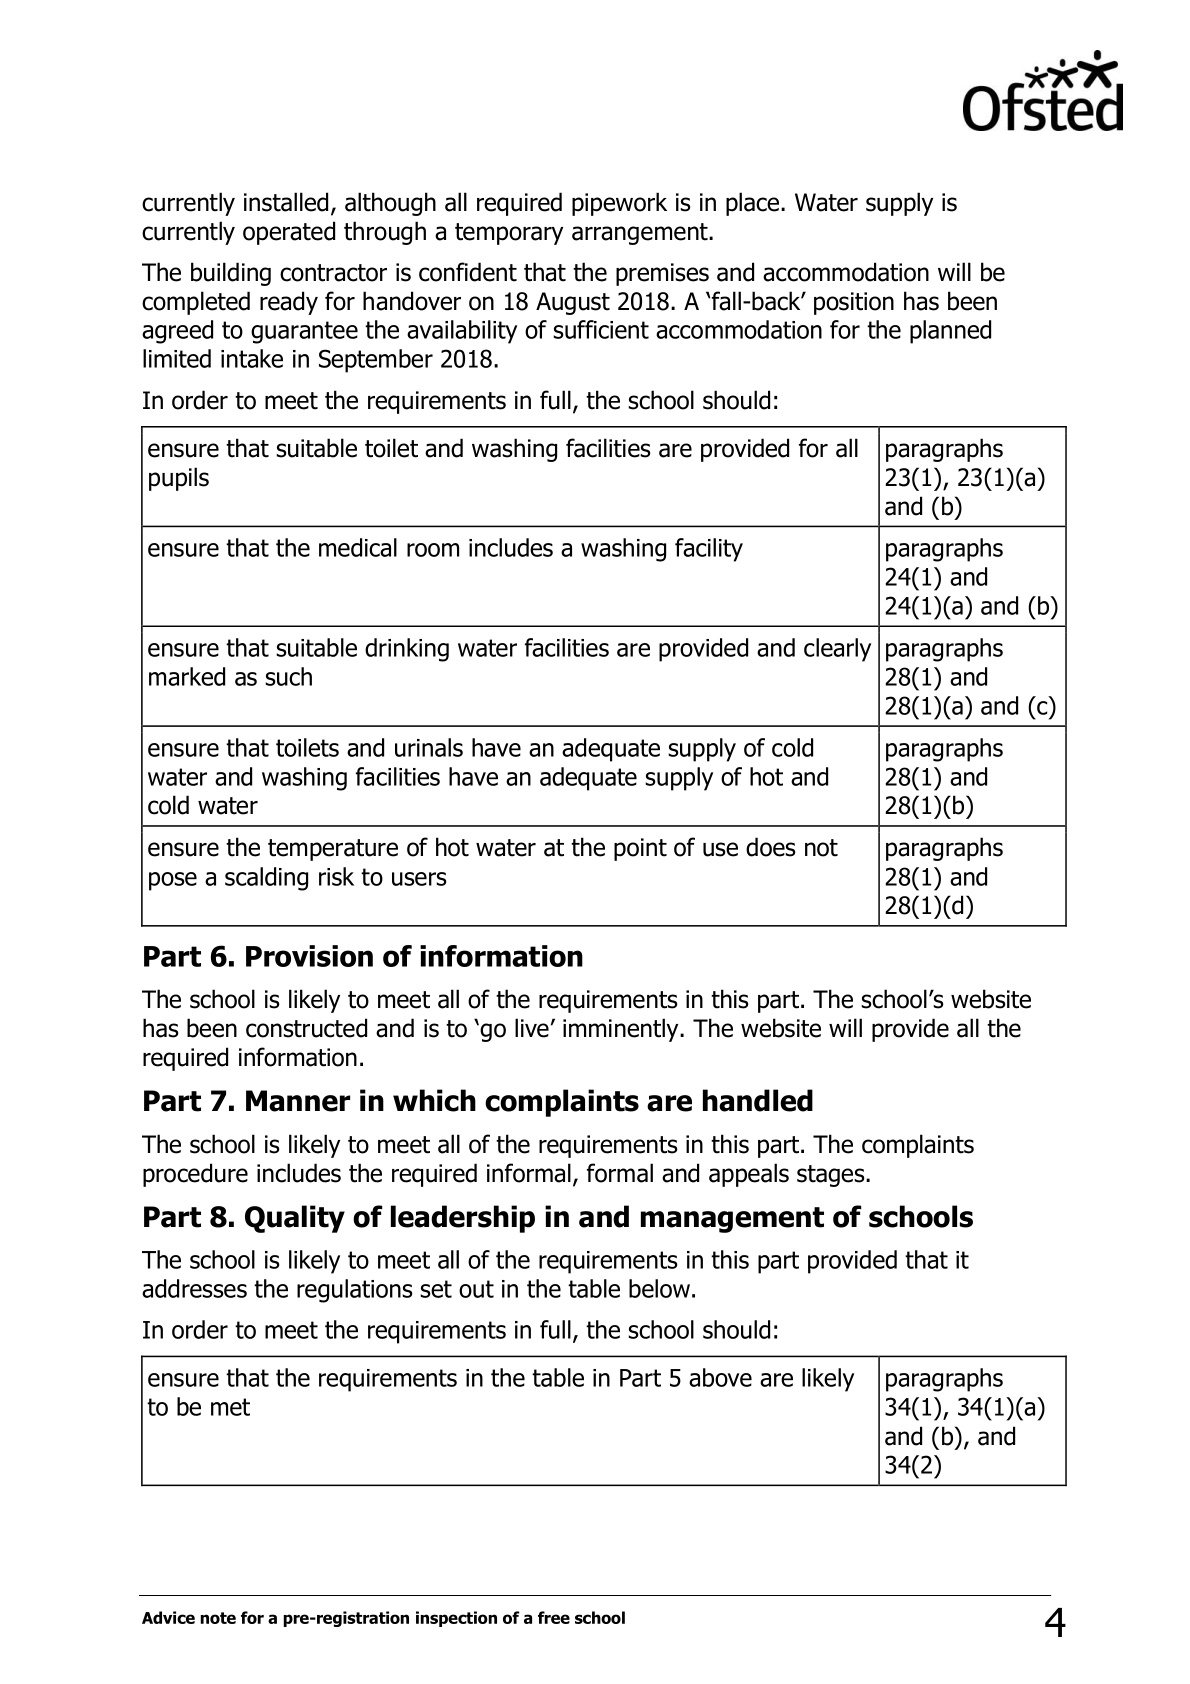full_lined: (140, 426, 1068, 928), (140, 1354, 1068, 1487)
